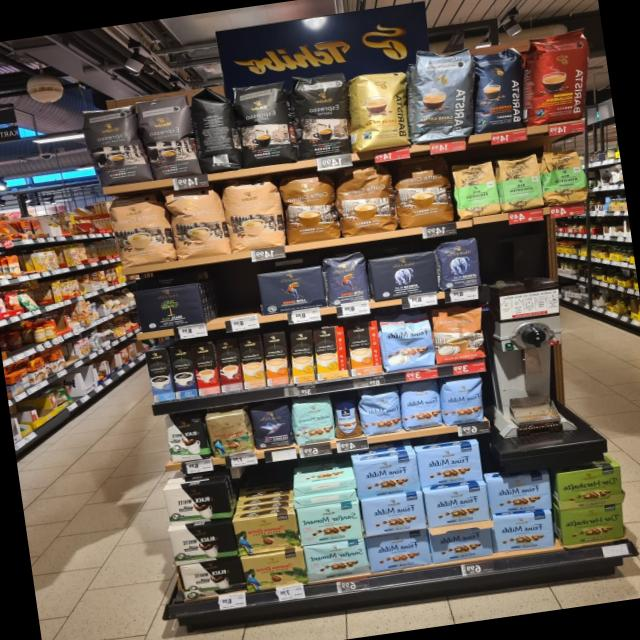AB Bohne: (434, 236, 486, 291)
AB Gemahlen: (368, 249, 439, 302)
Athiopien Bohne: (538, 148, 588, 207)
Athiopien Gemahlen: (451, 160, 504, 220), (496, 154, 546, 212)
BM Gemahlen: (135, 280, 205, 332)
BW Bohne: (163, 410, 210, 464)
BW Gemahlen: (162, 478, 234, 528), (166, 519, 238, 567), (176, 556, 244, 601)
Barista CB: (343, 67, 418, 153)
Barista CC: (398, 44, 486, 144)
Barista Espresso: (466, 44, 534, 135)
Barista Kolumbien: (519, 26, 600, 125)
C Fino Bohne: (248, 402, 296, 451)
CC Mild: (221, 176, 287, 255), (107, 192, 172, 270), (167, 183, 229, 261)
CC Vollmundig: (429, 301, 491, 366)
CC Vollmundig 36 Pads: (390, 153, 457, 230), (332, 162, 398, 238), (280, 170, 342, 246)
Colombia BB Bohne: (204, 407, 252, 459)
Colombia BB Gemahlen: (231, 510, 301, 557), (240, 548, 308, 596)
Espresso Aromatisch: (134, 92, 200, 181), (80, 103, 146, 188)
Espresso Kraftig: (289, 69, 357, 160), (232, 78, 299, 168)
FM 36 Pads: (378, 310, 436, 373)
FM Bohne: (438, 372, 490, 427), (357, 385, 406, 438), (398, 378, 446, 432)
FM Gemahlen: (416, 440, 486, 488), (423, 481, 492, 529), (360, 490, 428, 537), (353, 452, 421, 498), (486, 472, 554, 517), (364, 528, 433, 572), (491, 508, 556, 554), (428, 520, 494, 564)
FM Instant: (329, 394, 365, 440)
Herzhatfe Mundig: (554, 464, 627, 512), (557, 502, 627, 548)
LG Bohne: (322, 249, 372, 307)
LG Gemahlen: (256, 266, 327, 316)
SM Bohne: (289, 394, 337, 446)
SM Gemahlen: (303, 536, 372, 585), (296, 500, 365, 548)
Simo CCMild bigpack: (312, 326, 349, 382), (289, 330, 316, 384)
Simo CCVollmundig: (345, 319, 384, 376)
Simo CCVollmundig bigpack: (261, 332, 290, 386)
Simo Decaff: (238, 334, 268, 390)
Simo Es Brazil: (192, 342, 222, 398)
Simo Es Caramel: (215, 337, 244, 392)
Simo Es Kraft: (168, 344, 198, 400)
Simo Es Vanilla: (144, 348, 174, 403)
